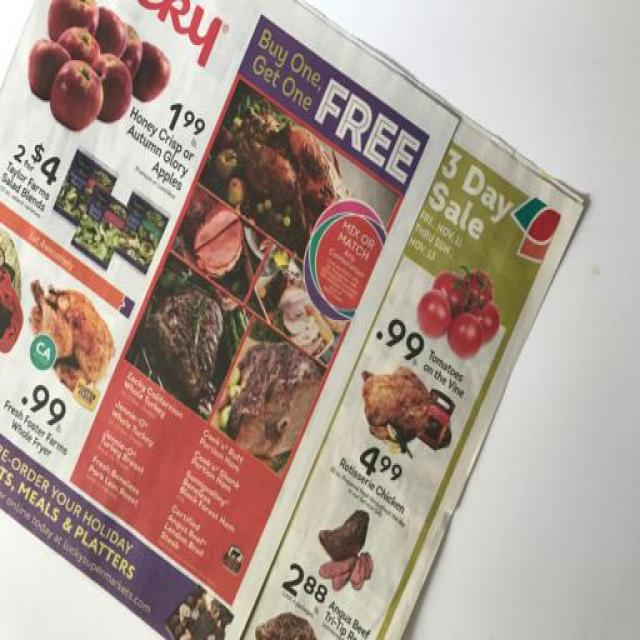paper: (2, 1, 600, 640)
